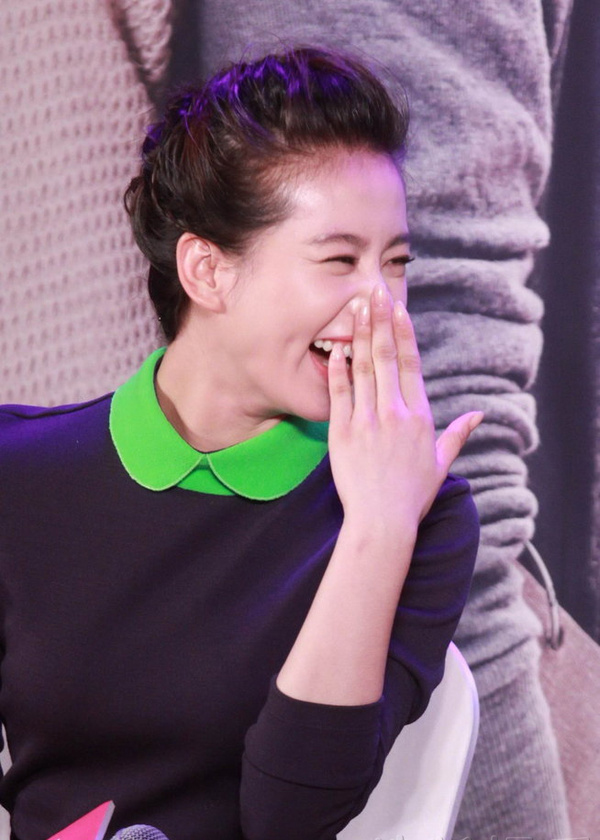face: (241, 139, 410, 430)
